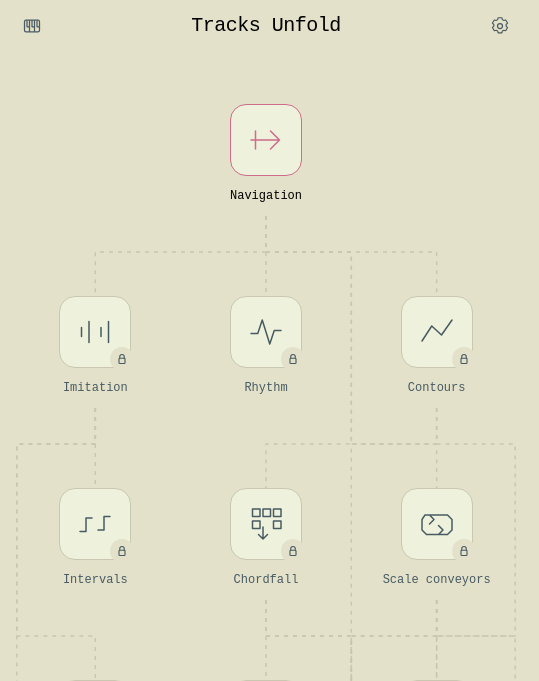
Test case: MainMenu › explains prerequisites for an upcoming locked puzzle
The width and height of the screenshot is (539, 681).
Click the button with aria-label "tonal contours".
click(437, 352)  # box [351,296,522,408]
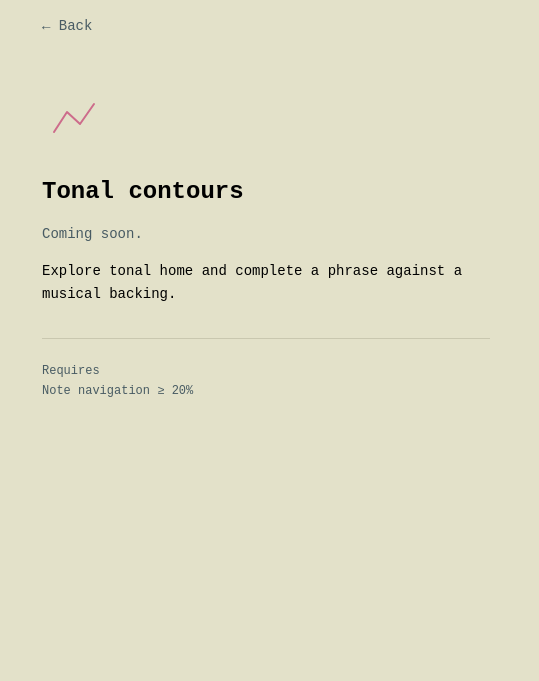
Expected: the list item "Note navigation ≥ 20%" is shown, [42,384,193,398]
Expected: the text "Coming soon." is shown, [42,226,143,242]
